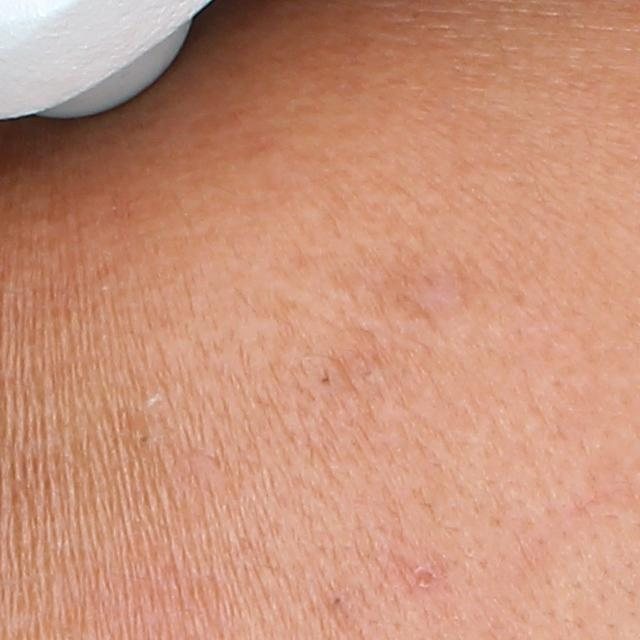comedo: (315, 367, 340, 391), (326, 593, 347, 612)
